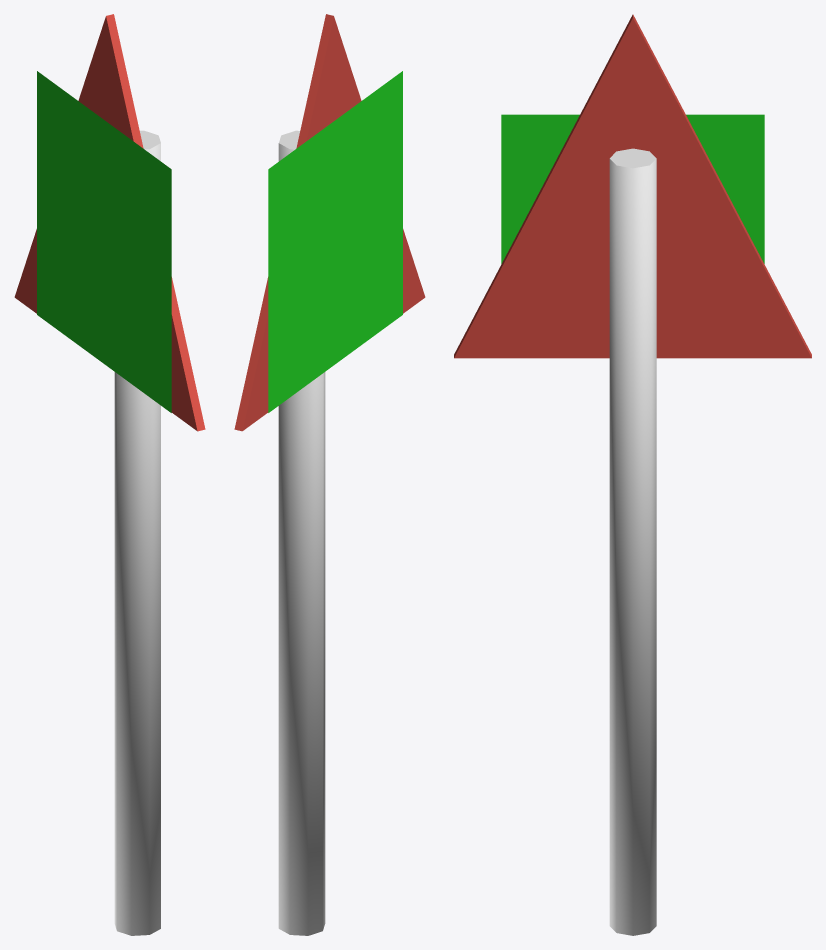
Rendered from zs3_small.glb.
The picture shows the model from 3 angles, left to right: view 1: azimuth 30°, elevation 25°; view 2: azimuth 150°, elevation 25°; view 3: azimuth 270°, elevation 25°; orthographic projection. The views are drawn at different scales.
Parts seen in each view (by area): view 1: Zs3_small; view 2: Zs3_small; view 3: Zs3_small.
Part boxes in pixels (box(x1,y1,x2,y2)): Zs3_small: box(14, 14, 205, 935); Zs3_small: box(234, 14, 425, 935); Zs3_small: box(454, 14, 811, 935).
Bounding box in the file's own units: 0.1305 × 2.11 × 0.7613.
